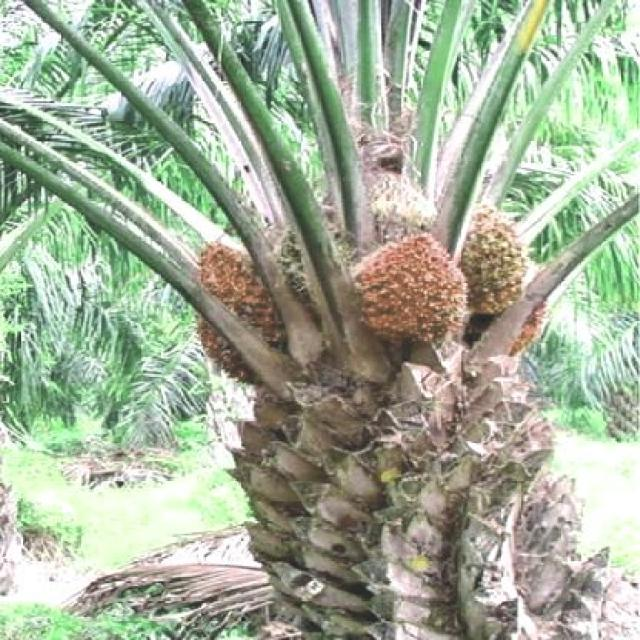palm-oil: (184, 235, 297, 398), (338, 243, 470, 351), (448, 204, 523, 329), (503, 268, 556, 367)
